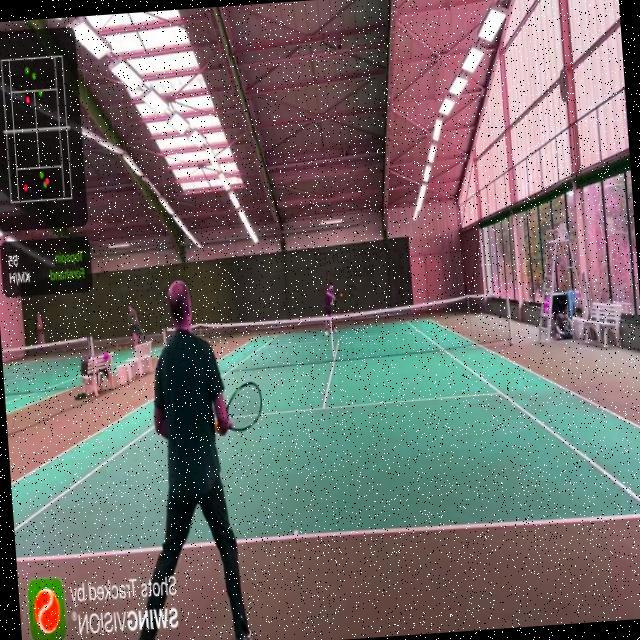court: (1, 303, 640, 563)
net: (160, 288, 514, 380)
player: (100, 272, 279, 640)
